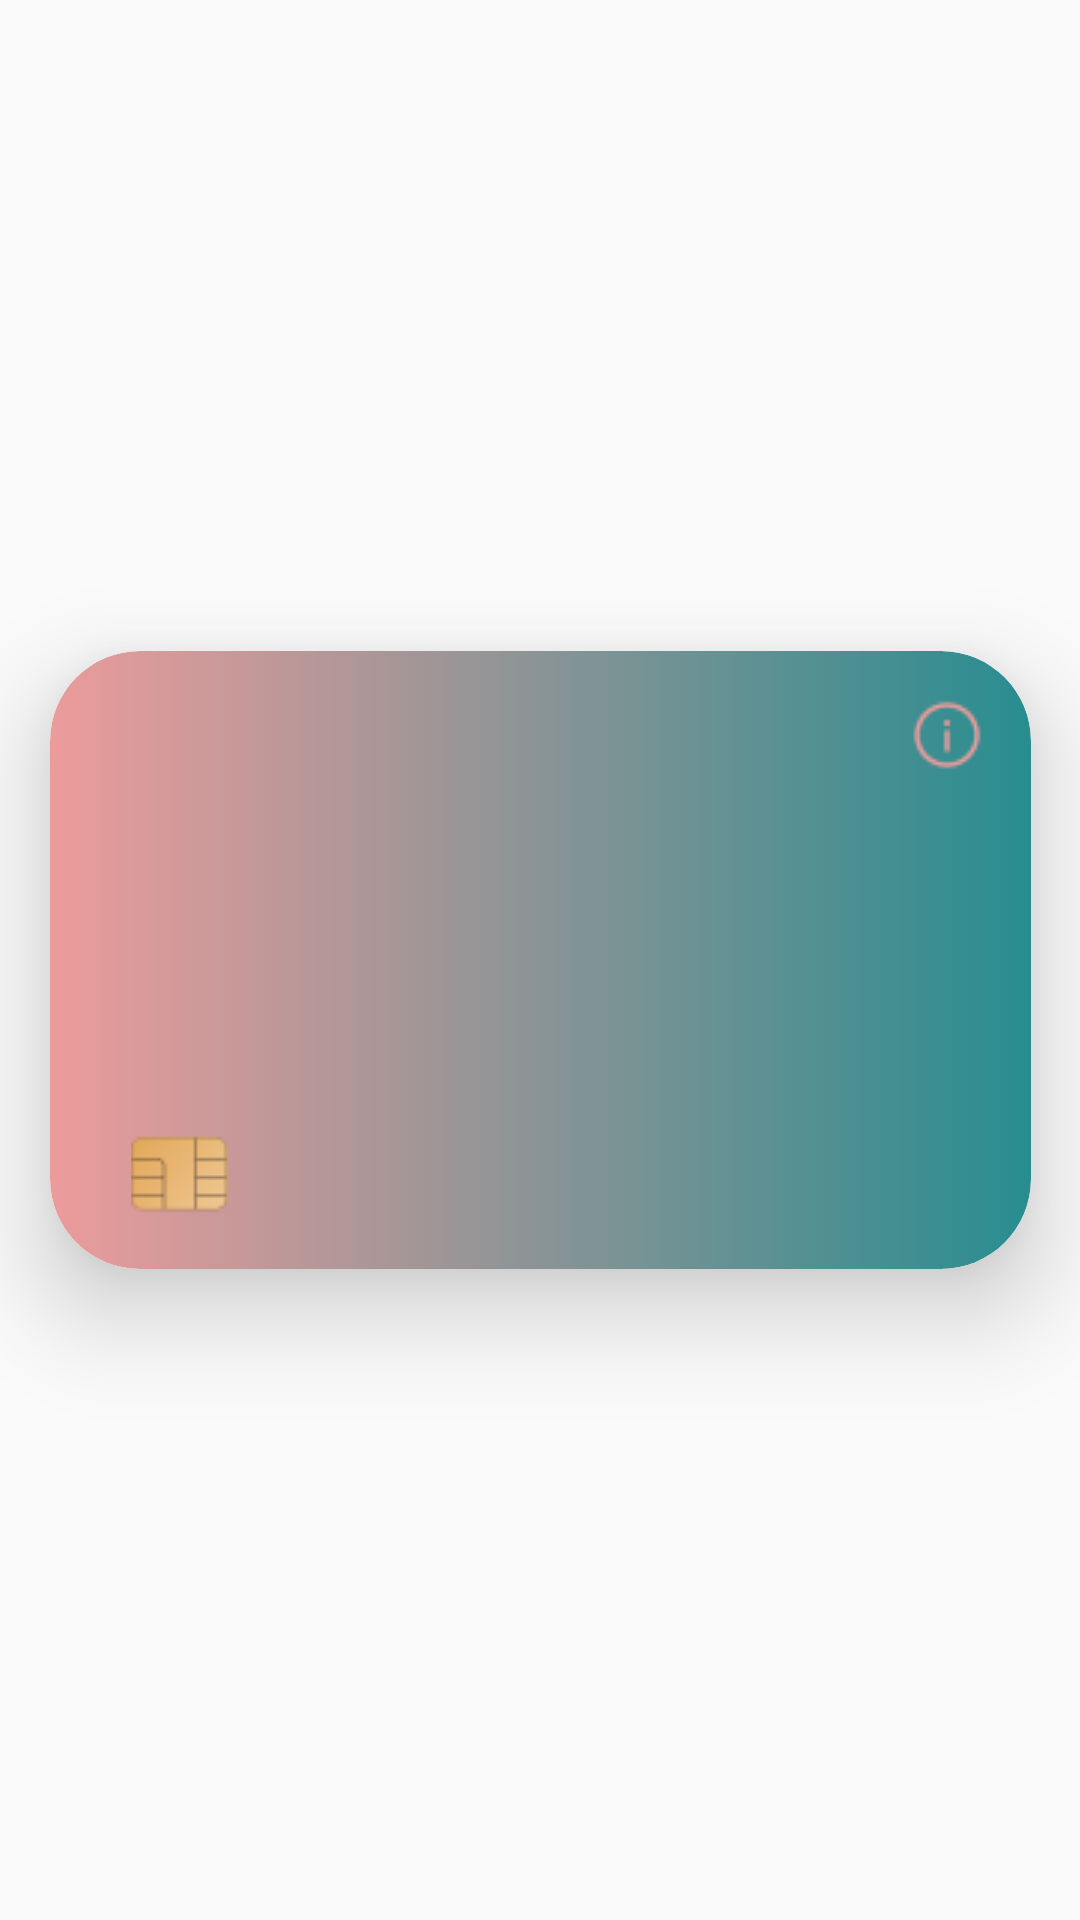

Screen size 1080w x 1920h. Icon name, then its center in pixels as point (x, y):
chip: point (179, 1174)
info: point (947, 735)
